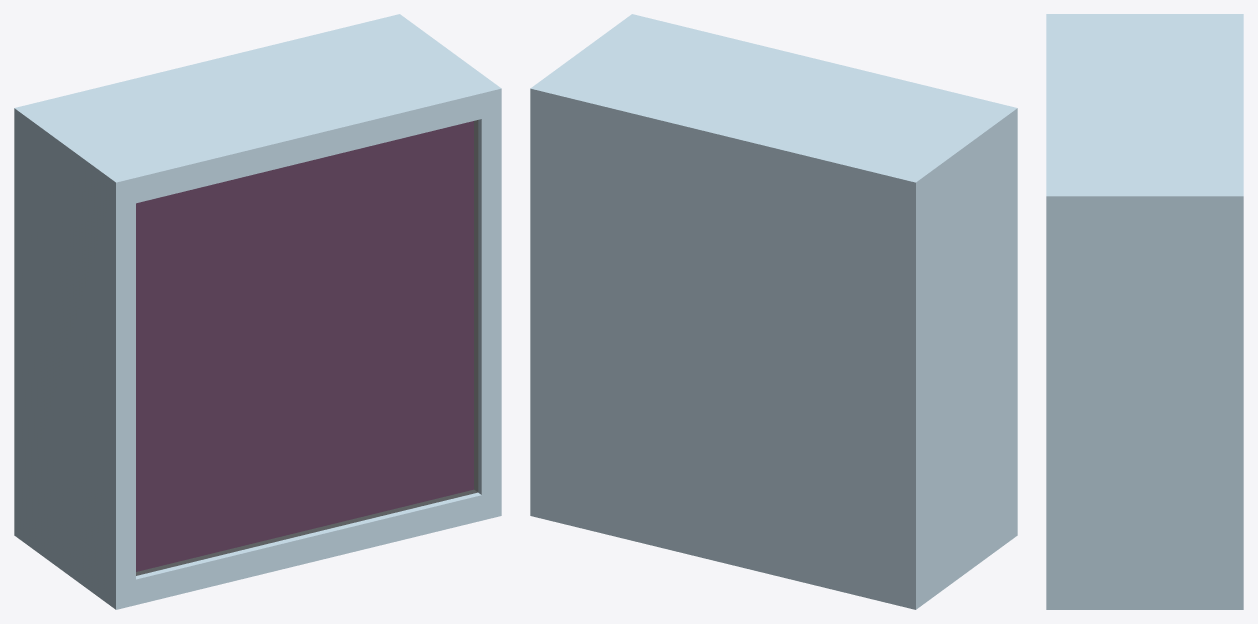
The model's file is EB_FuzeBox.fbx.
The picture shows the model from 3 angles, left to right: view 1: azimuth 30°, elevation 25°; view 2: azimuth 150°, elevation 25°; view 3: azimuth 270°, elevation 25°; orthographic projection. The views are drawn at different scales.
Visible parts, largest first — view 1: FuseBox; view 2: FuseBox; view 3: FuseBox.
Part boxes in pixels (x1,y1,x2,y2): FuseBox: [14, 14, 501, 609]; FuseBox: [530, 14, 1017, 609]; FuseBox: [1046, 14, 1243, 609].
Bounding box in the file's own units: 43.09 × 45.64 × 19.72.
